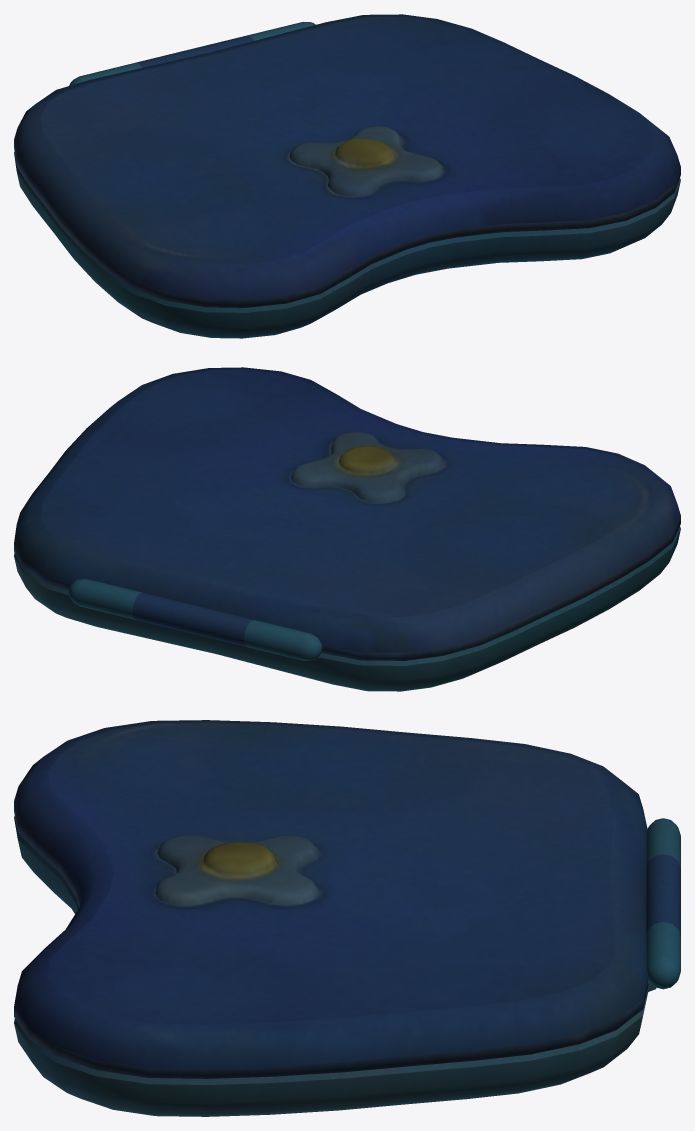
The model's file is kids_computer_1.obj.
3 renders of one model, top to bottom at view 1: azimuth 30°, elevation 25°; view 2: azimuth 150°, elevation 25°; view 3: azimuth 270°, elevation 25°, orthographic. The views are drawn at different scales.
Parts seen in each view (by area): view 1: kids_computer_1_screen, kids_computer_1; view 2: kids_computer_1_screen, kids_computer_1; view 3: kids_computer_1_screen, kids_computer_1.
Part boxes in pixels (left/top/right/bottom): kids_computer_1_screen: left=14, top=14, right=680, bottom=307; kids_computer_1: left=14, top=152, right=680, bottom=338; kids_computer_1_screen: left=14, top=367, right=680, bottom=660; kids_computer_1: left=14, top=526, right=680, bottom=691; kids_computer_1_screen: left=14, top=720, right=680, bottom=1078; kids_computer_1: left=14, top=816, right=656, bottom=1116.
Size of the model in its own units: 0.3518 by 0.058 by 0.3008.
